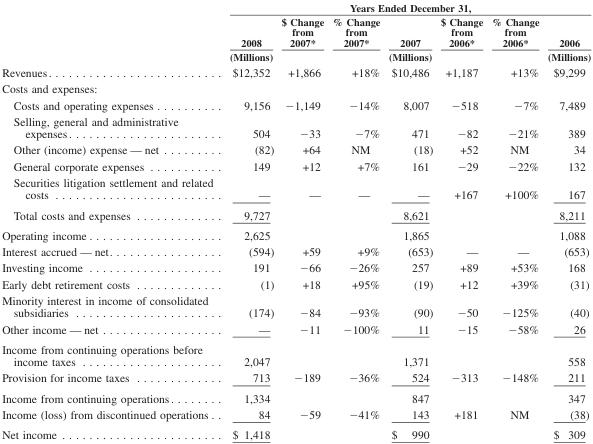table: (1, 0, 590, 440)
table column: (1, 0, 221, 440), (221, 0, 277, 440), (327, 0, 383, 440), (486, 0, 542, 440), (383, 0, 436, 440), (277, 0, 327, 440), (436, 0, 486, 440), (542, 0, 590, 440)
table column header: (1, 0, 590, 63)
table projected row header: (1, 80, 590, 96)
table row: (1, 14, 590, 63), (1, 173, 590, 204), (1, 338, 590, 369), (1, 112, 590, 141), (1, 291, 590, 320), (1, 204, 590, 224), (1, 405, 590, 424), (1, 224, 590, 242), (1, 320, 590, 338), (1, 369, 590, 387), (1, 387, 590, 405), (1, 63, 590, 80), (1, 242, 590, 259), (1, 80, 590, 96), (1, 96, 590, 112), (1, 141, 590, 157), (1, 157, 590, 173), (1, 259, 590, 275), (1, 275, 590, 291), (1, 424, 590, 440), (1, 0, 590, 14)
table spanning cell: (221, 0, 590, 14)
